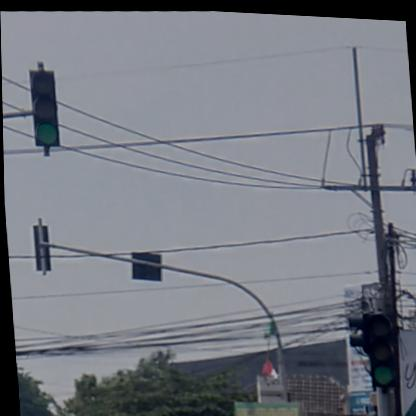green: (29, 69, 63, 149), (364, 310, 397, 384)
